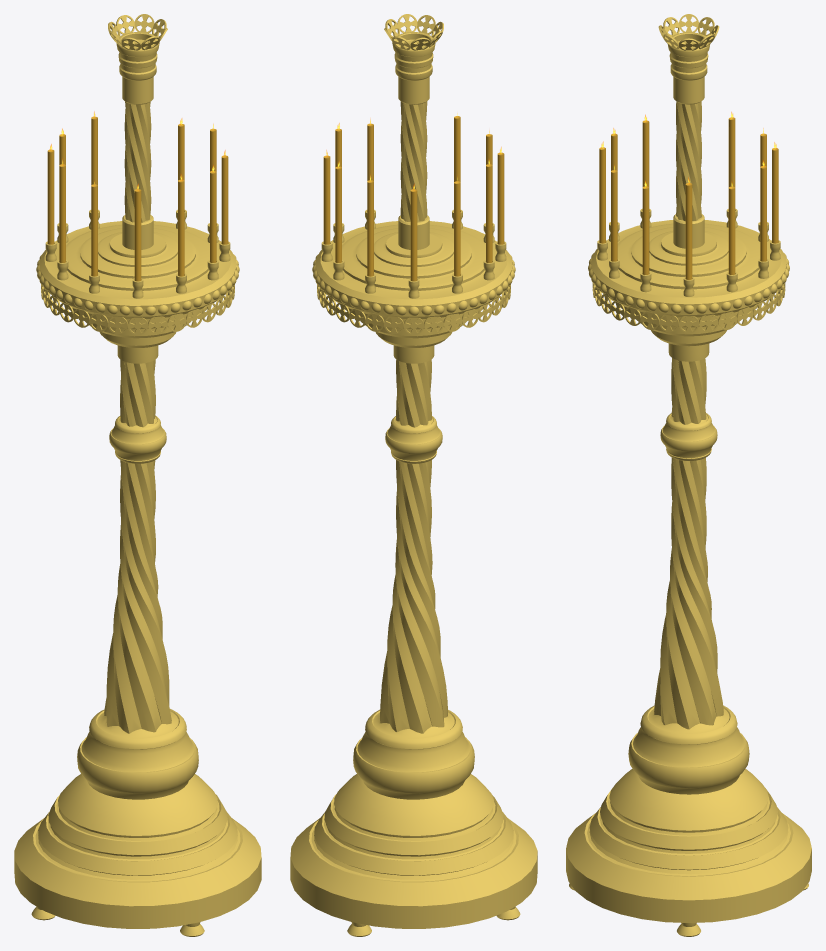
The model's file is candela.glb.
3 renders of one model, left to right at view 1: azimuth 30°, elevation 25°; view 2: azimuth 150°, elevation 25°; view 3: azimuth 270°, elevation 25°, orthographic.
Visible parts, largest first — view 1: Holder_0, Candles_1; view 2: Holder_0, Candles_1; view 3: Holder_0, Candles_1.
Part boxes in pixels (x1=…): Holder_0: x1=14, y1=14, x2=261, y2=936; Candles_1: x1=47, y1=111, x2=228, y2=281; Holder_0: x1=290, y1=14, x2=537, y2=936; Candles_1: x1=323, y1=113, x2=504, y2=281; Holder_0: x1=566, y1=14, x2=811, y2=936; Candles_1: x1=599, y1=112, x2=778, y2=279.
Size of the model in its own units: 0.4132 by 1.6 by 0.4132.
Materials: 3 (1 with a texture image).
